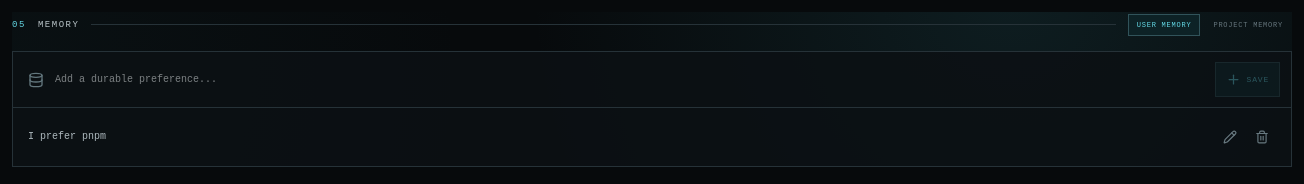
Test case: MemoryPanel › deletes a memory
Expected: the text "I prefer pnpm" is shown, [28,129,106,145]
What coordinates should you click on to do the following:
click the button named "Delete memory"
I would click on:
 (1262, 137)
Its box is [1248,123,1276,151].
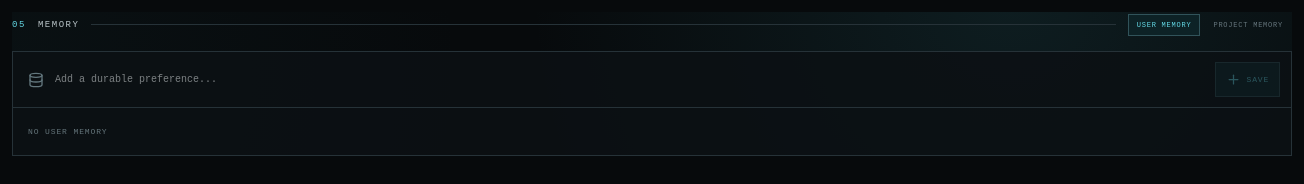
Expected: the text "I prefer pnpm" is gone
